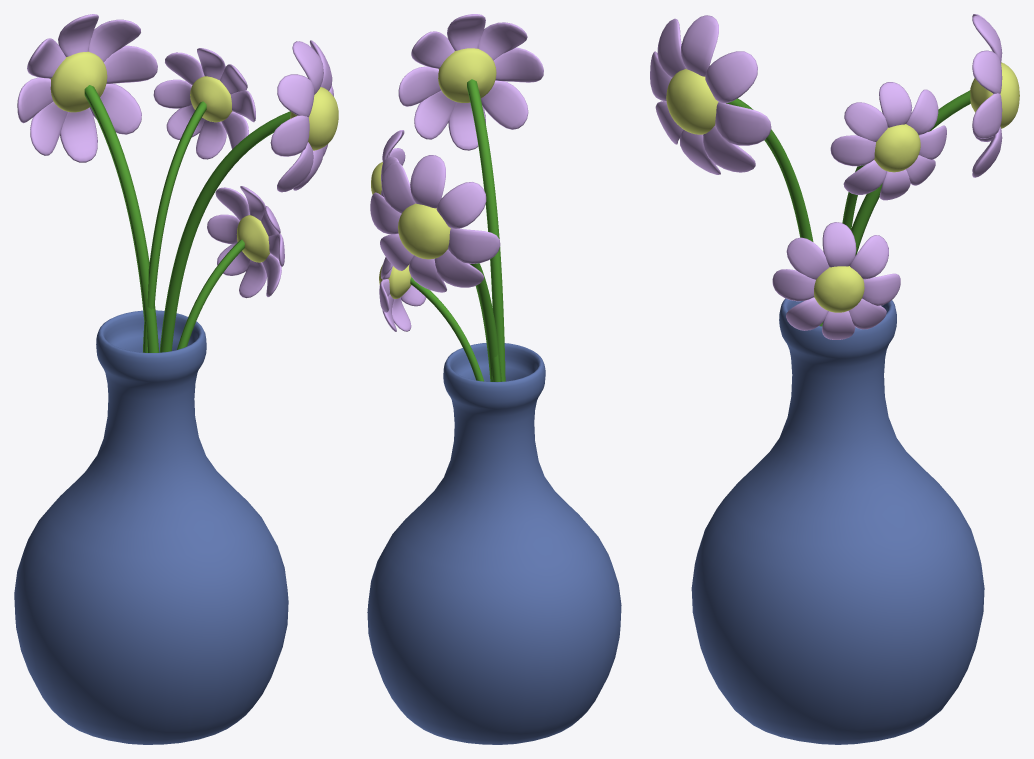
File: Flower.fbx
3 views of the same model, side by side, from view 1: azimuth 30°, elevation 25°; view 2: azimuth 150°, elevation 25°; view 3: azimuth 270°, elevation 25° (orthographic). The views are drawn at different scales.
Parts seen in each view (by area): view 1: Vase.002, Flower.001, Flower, Circle.001, Flower.003, Plane.028, Plane.030, Circle.002, Plane.029, Circle.012, Plane.031, Plane.027 (+21 smaller); view 2: Vase.002, Flower.001, Circle.002, Circle.001, Plane.025, Plane.037, Plane.024, Plane.026, Plane.038, Plane.035, Plane.034, Plane.039 (+12 smaller); view 3: Vase.002, Circle.002, Plane.033, Circle.011, Plane.034, Circle.012, Plane.032, Flower.001, Circle.001, Plane.035, Plane.040, Flower (+19 smaller).
Boxes of the visible parts, left/top/right/bottom form: Vase.002: left=14, top=310, right=288, bottom=744; Flower.001: left=159, top=111, right=290, bottom=352; Flower: left=84, top=85, right=159, bottom=352; Circle.001: left=49, top=51, right=107, bottom=112; Flower.003: left=143, top=101, right=206, bottom=352; Plane.028: left=60, top=107, right=97, bottom=162; Plane.030: left=103, top=45, right=157, bottom=83; Circle.002: left=290, top=87, right=338, bottom=150; Plane.029: left=90, top=83, right=141, bottom=134; Circle.012: left=190, top=76, right=232, bottom=122; Plane.031: left=88, top=19, right=140, bottom=62; Plane.027: left=30, top=101, right=67, bottom=155; Vase.002: left=367, top=343, right=621, bottom=744; Flower.001: left=467, top=79, right=505, bottom=381; Circle.002: left=438, top=48, right=496, bottom=102; Circle.001: left=398, top=203, right=450, bottom=259; Plane.025: left=436, top=182, right=486, bottom=228; Plane.037: left=481, top=80, right=528, bottom=129; Plane.024: left=410, top=155, right=445, bottom=208; Plane.026: left=448, top=228, right=500, bottom=263; Plane.038: left=493, top=47, right=543, bottom=82; Plane.035: left=414, top=90, right=456, bottom=139; Plane.034: left=398, top=66, right=440, bottom=106; Plane.039: left=478, top=22, right=527, bottom=60; Vase.002: left=691, top=298, right=984, bottom=744; Circle.002: left=666, top=69, right=718, bottom=134; Plane.033: left=705, top=51, right=757, bottom=103; Circle.011: left=814, top=266, right=864, bottom=312; Plane.034: left=715, top=102, right=771, bottom=145; Circle.012: left=874, top=124, right=920, bottom=172; Plane.032: left=681, top=15, right=718, bottom=76; Flower.001: left=726, top=98, right=822, bottom=326; Circle.001: left=970, top=62, right=1019, bottom=128; Plane.035: left=703, top=125, right=755, bottom=172; Plane.040: left=822, top=222, right=856, bottom=267; Flower: left=851, top=90, right=970, bottom=255.
Bounding box in the file's own units: 106 × 273 × 125.
